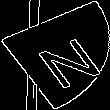N_NW: (15, 23, 95, 87)
